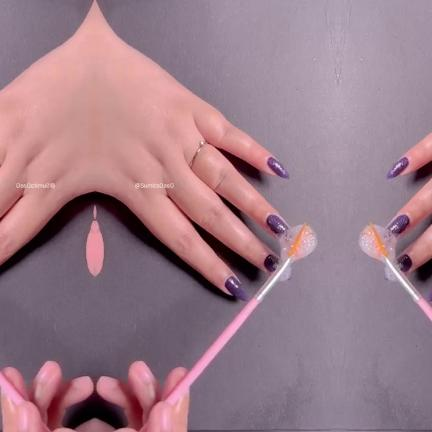Nail: (224, 276, 246, 302), (266, 157, 289, 180), (265, 214, 288, 237), (385, 157, 408, 180), (386, 214, 409, 237), (262, 254, 278, 273), (396, 254, 412, 273), (428, 287, 432, 302)
